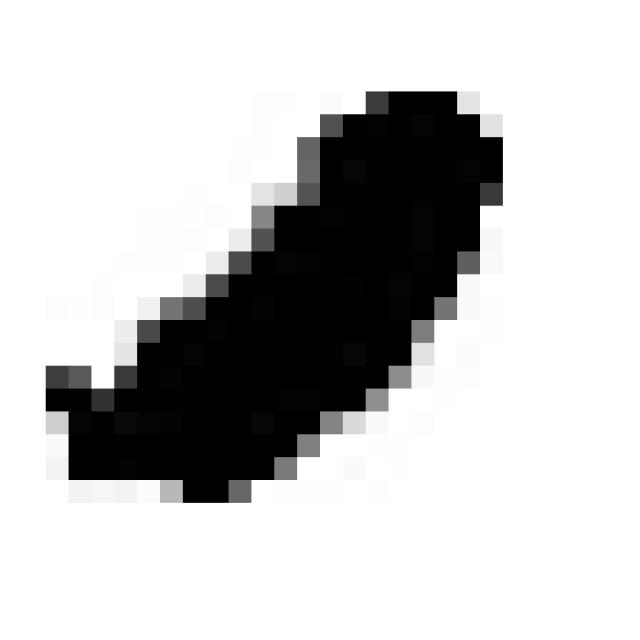0 -zero-: (34, 71, 519, 510)
